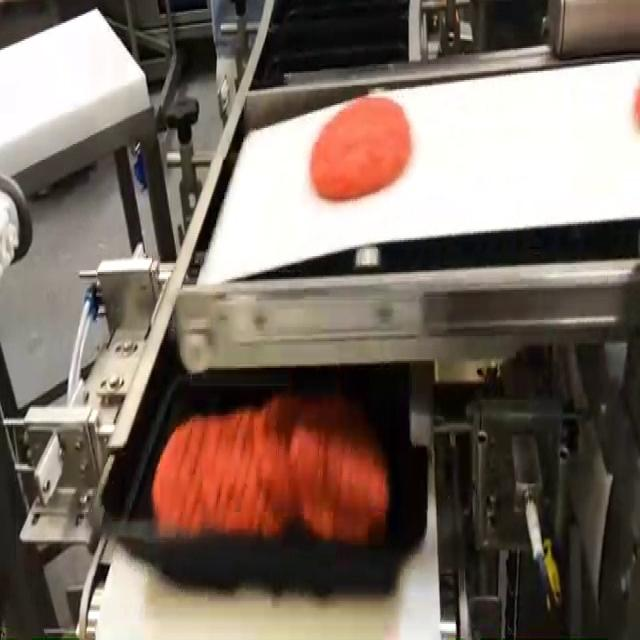4-hamburguer: (151, 395, 389, 542)
